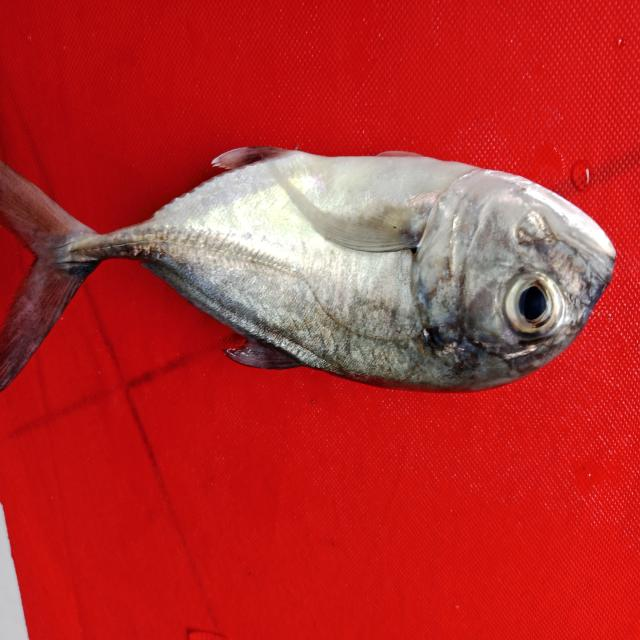ikan: (3, 132, 619, 406)
